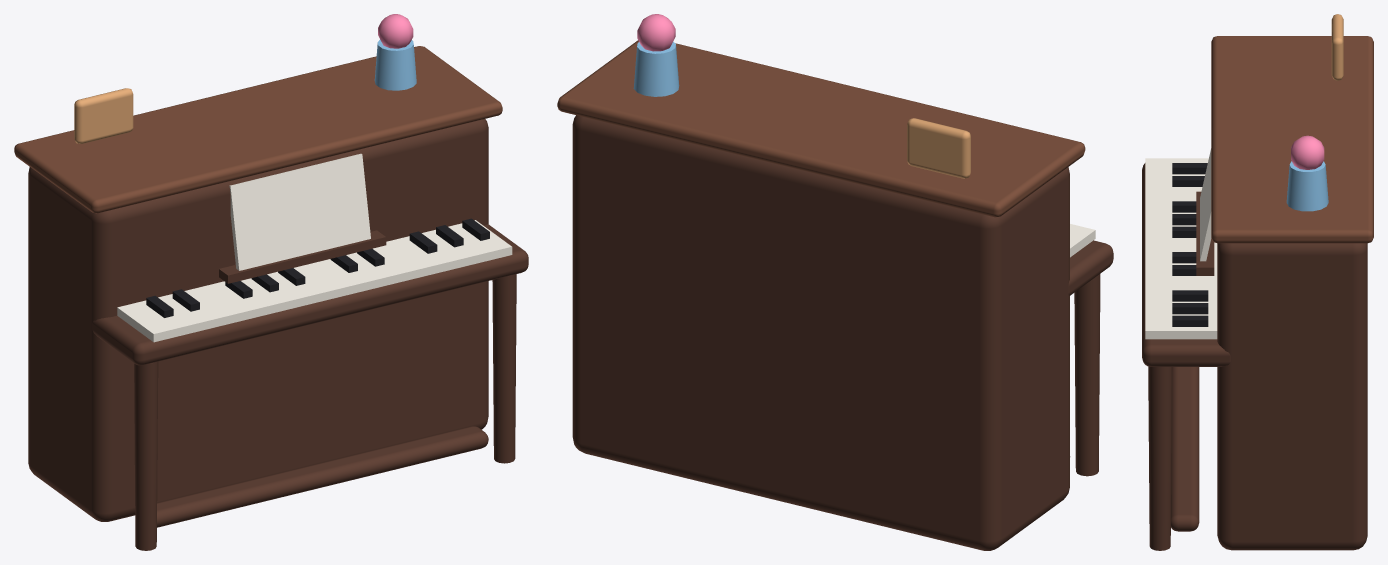
File: desk-piano.glb
3 renders of one model, left to right at view 1: azimuth 30°, elevation 25°; view 2: azimuth 150°, elevation 25°; view 3: azimuth 270°, elevation 25°, orthographic. The views are drawn at different scales.
Bounding box in the file's own units: 1.56 × 1.44 × 0.77.
